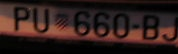0: (113, 13, 129, 40)
6: (71, 8, 91, 38), (93, 10, 111, 39)
B: (141, 13, 159, 43)
J: (160, 13, 178, 44)
P: (13, 4, 31, 33)
U: (31, 6, 50, 35)
